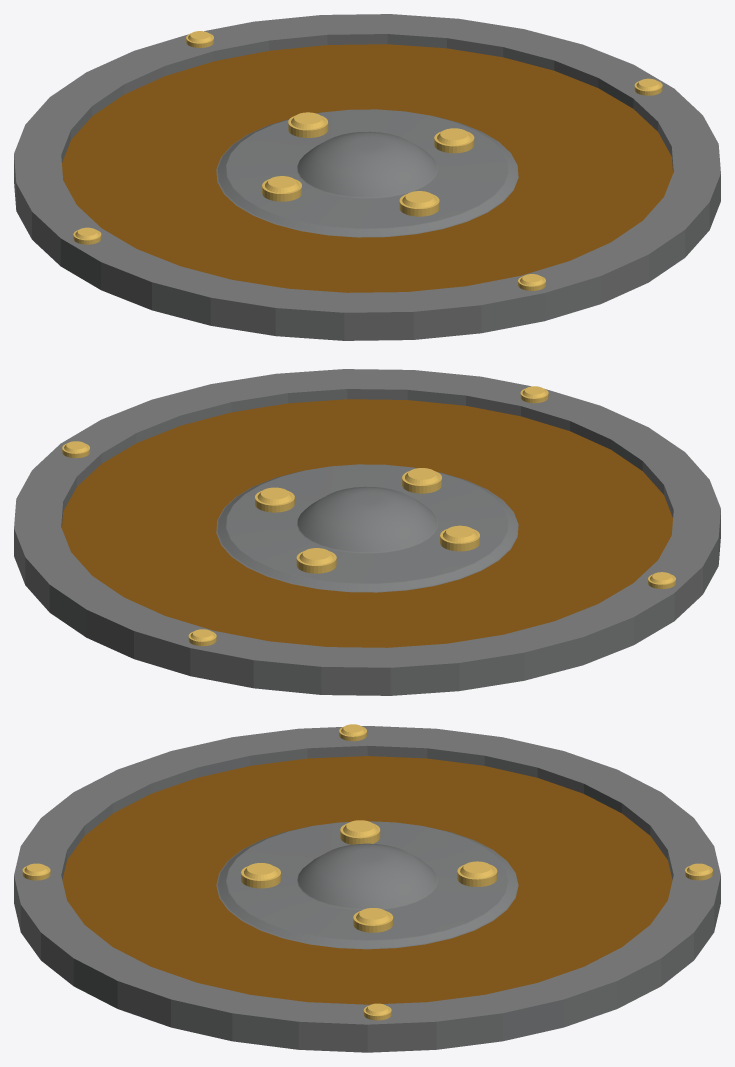
The model's file is shield1.fbx.
3 renders of one model, top to bottom at view 1: azimuth 30°, elevation 25°; view 2: azimuth 150°, elevation 25°; view 3: azimuth 270°, elevation 25°, orthographic.
Parts seen in each view (by area): view 1: shield, Hbolt.005, Hbolt.004, Hbolt.003, Hbolt.002; view 2: shield, Hbolt.004, Hbolt.003, Hbolt.005, Hbolt.002; view 3: shield, Hbolt.004, Hbolt.005, Hbolt.002, Hbolt.003.
Boxes of the visible parts, x1,y1,x2,y2 form: shield: [14, 14, 720, 340]; Hbolt.005: [399, 191, 439, 216]; Hbolt.004: [288, 112, 328, 137]; Hbolt.003: [262, 176, 301, 201]; Hbolt.002: [434, 128, 474, 153]; shield: [14, 369, 720, 695]; Hbolt.004: [296, 548, 336, 573]; Hbolt.003: [440, 525, 479, 551]; Hbolt.005: [402, 468, 441, 493]; Hbolt.002: [255, 487, 294, 512]; shield: [14, 726, 720, 1052]; Hbolt.004: [457, 861, 497, 886]; Hbolt.005: [241, 863, 280, 888]; Hbolt.002: [353, 908, 393, 932]; Hbolt.003: [340, 820, 380, 844].
Bounding box in the file's own units: 200 × 15.09 × 200.
